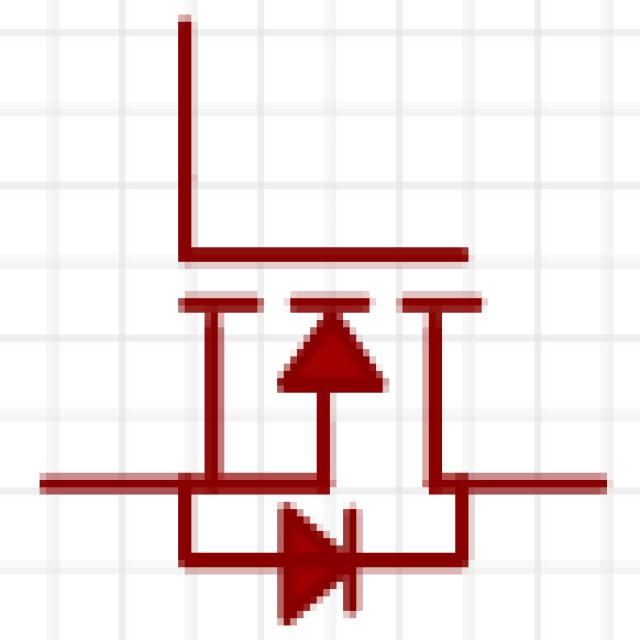nmos: (59, 29, 600, 640)
